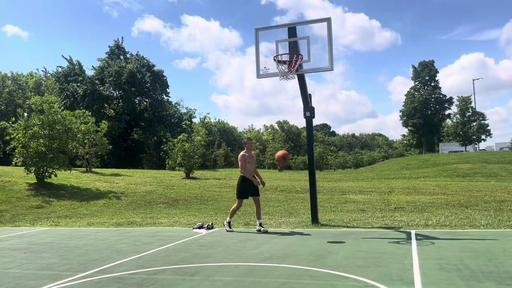ball: (276, 151, 290, 163)
human: (222, 138, 268, 234)
rim: (274, 52, 304, 79)
